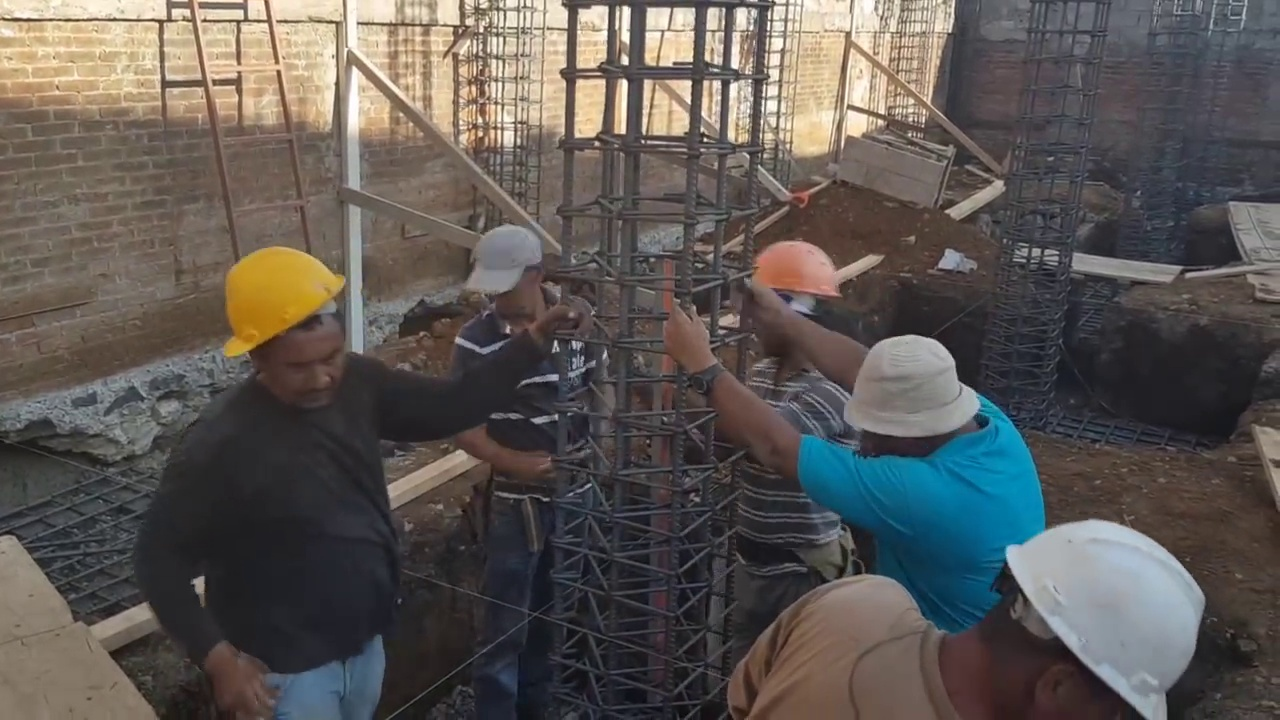helmet: (1002, 522, 1209, 709), (217, 238, 352, 362), (748, 245, 847, 303), (467, 224, 551, 287)
helmet-off: (837, 335, 981, 474)
helmet-on: (915, 518, 1208, 718), (217, 239, 350, 413), (742, 240, 848, 375), (466, 222, 552, 326)
person: (166, 222, 542, 720), (660, 273, 1052, 626), (720, 522, 1208, 714), (436, 221, 610, 663), (711, 245, 859, 664)
